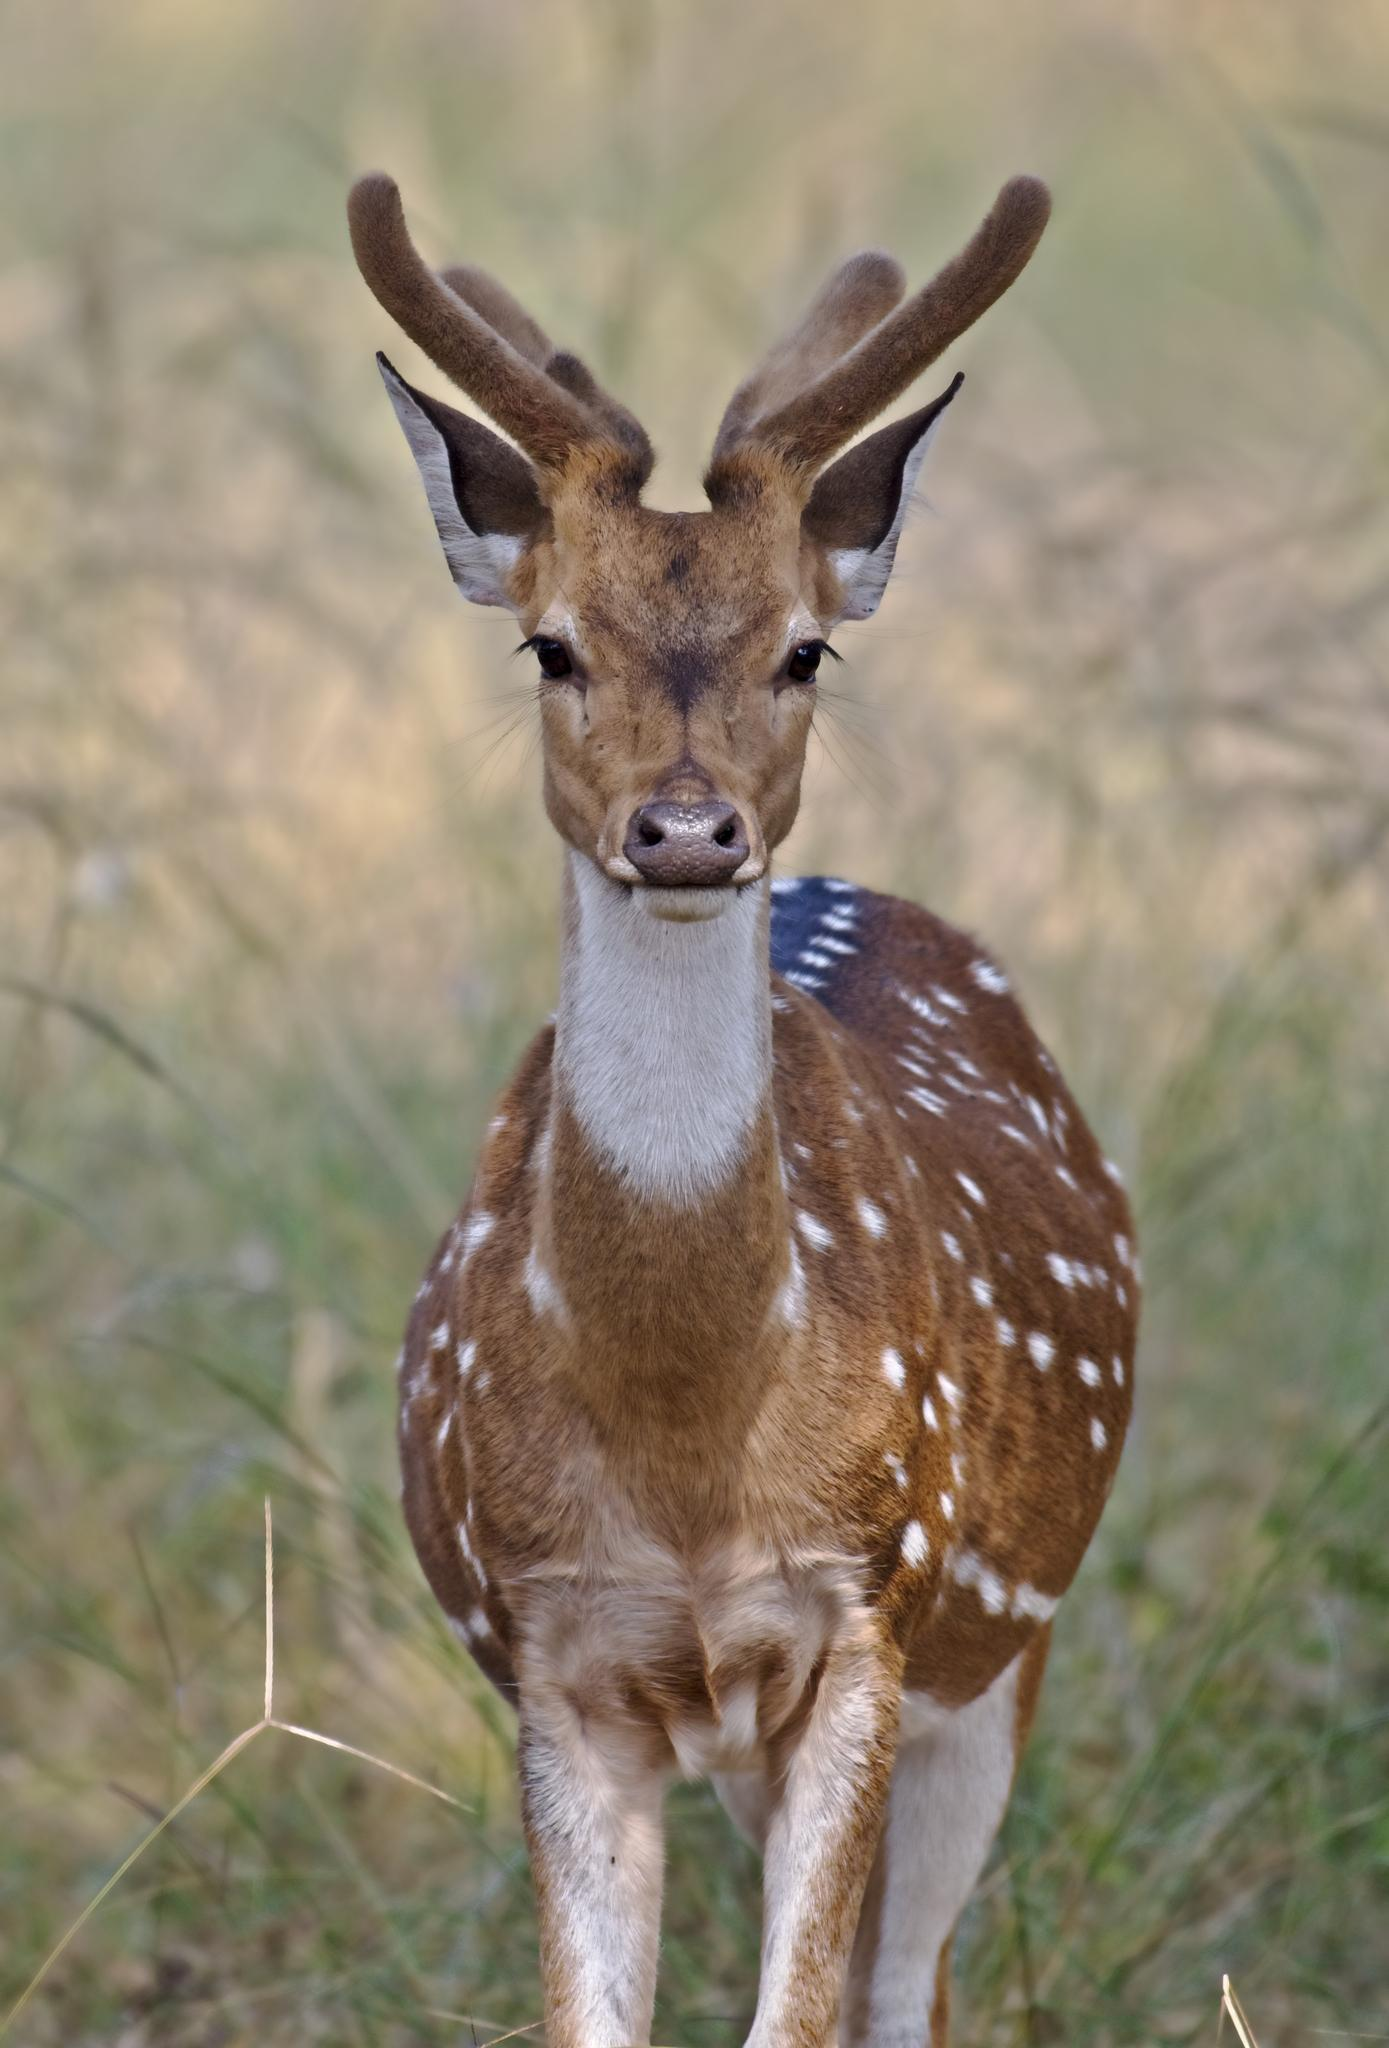Deer: (349, 177, 1138, 2046)
